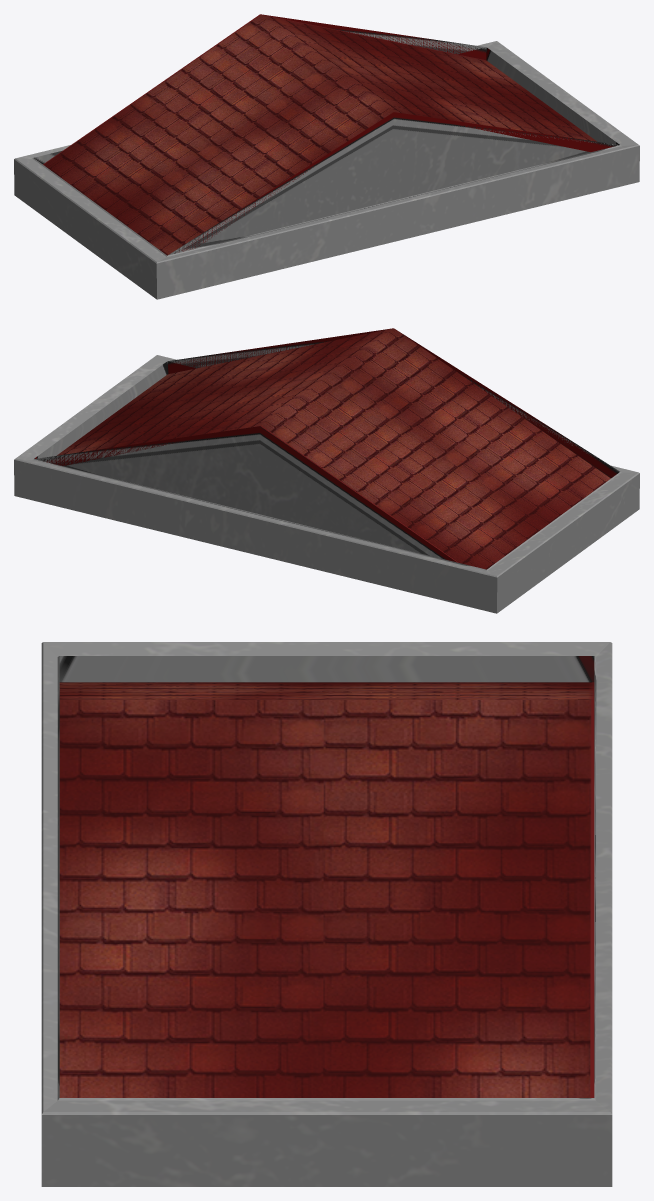
File: roof_2.FBX
3 views of the same model, one above another, from view 1: azimuth 30°, elevation 25°; view 2: azimuth 150°, elevation 25°; view 3: azimuth 270°, elevation 25° (orthographic). The views are drawn at different scales.
Visible parts, largest first — view 1: Box001; view 2: Box001; view 3: Box001.
Boxes of the visible parts, box(x1,y1,x2,y2) form: Box001: box(14, 14, 639, 299); Box001: box(14, 328, 639, 613); Box001: box(41, 642, 612, 1186).
Bounding box in the file's own units: 52.67 × 13.07 × 26.93.
